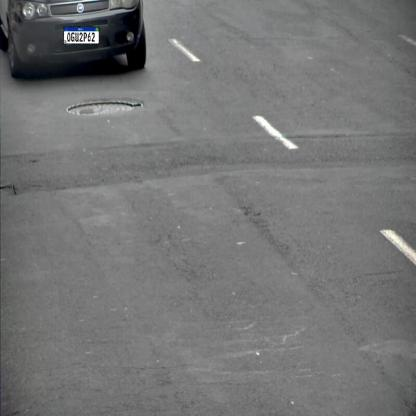PlacaM: (64, 26, 100, 44)
